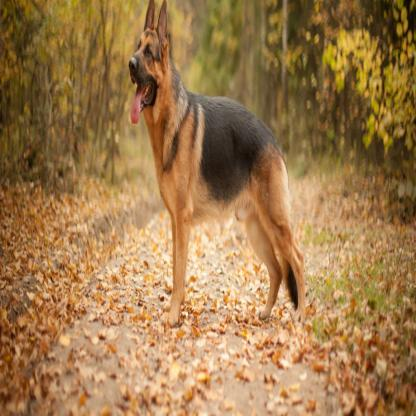dog: (129, 5, 307, 322)
